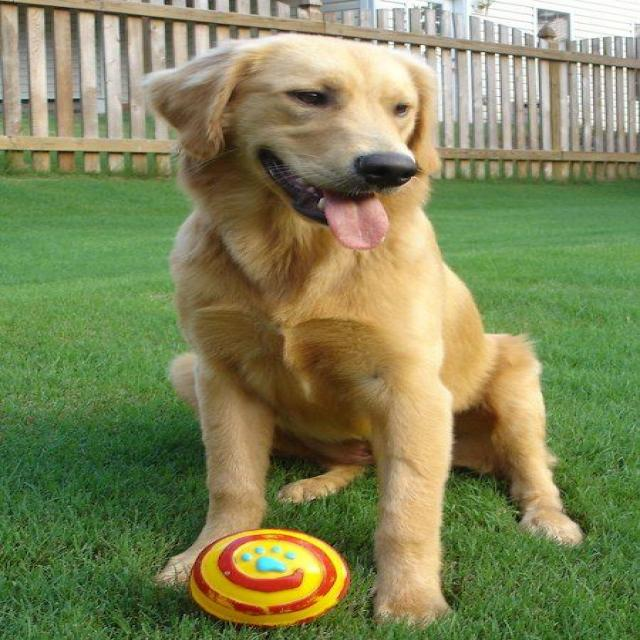sitting: (125, 26, 593, 626)
